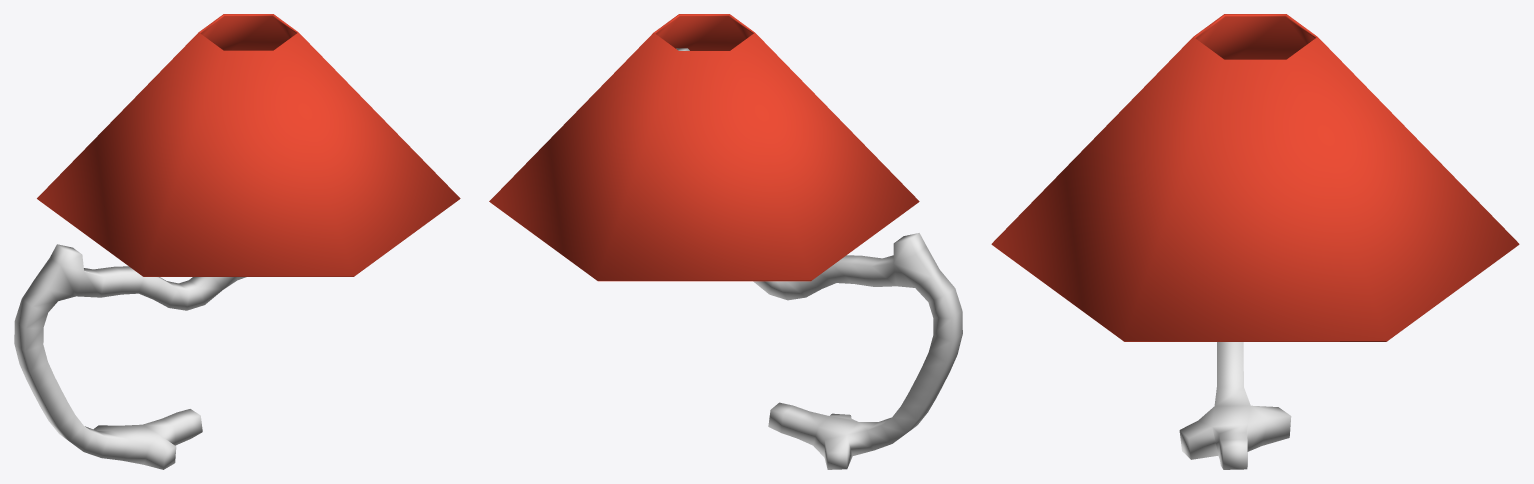
Rendered from Lampara.fbx.
3 renders of one model, left to right at view 1: azimuth 30°, elevation 25°; view 2: azimuth 150°, elevation 25°; view 3: azimuth 270°, elevation 25°, orthographic. The views are drawn at different scales.
Parts seen in each view (by area): view 1: base lamp; view 2: base lamp; view 3: base lamp.
Part boxes in pixels (left/top/right/bottom): base lamp: left=14, top=14, right=460, bottom=469; base lamp: left=489, top=14, right=962, bottom=469; base lamp: left=991, top=14, right=1519, bottom=469.
Bounding box in the file's own units: 45.66 × 42.56 × 42.13.
